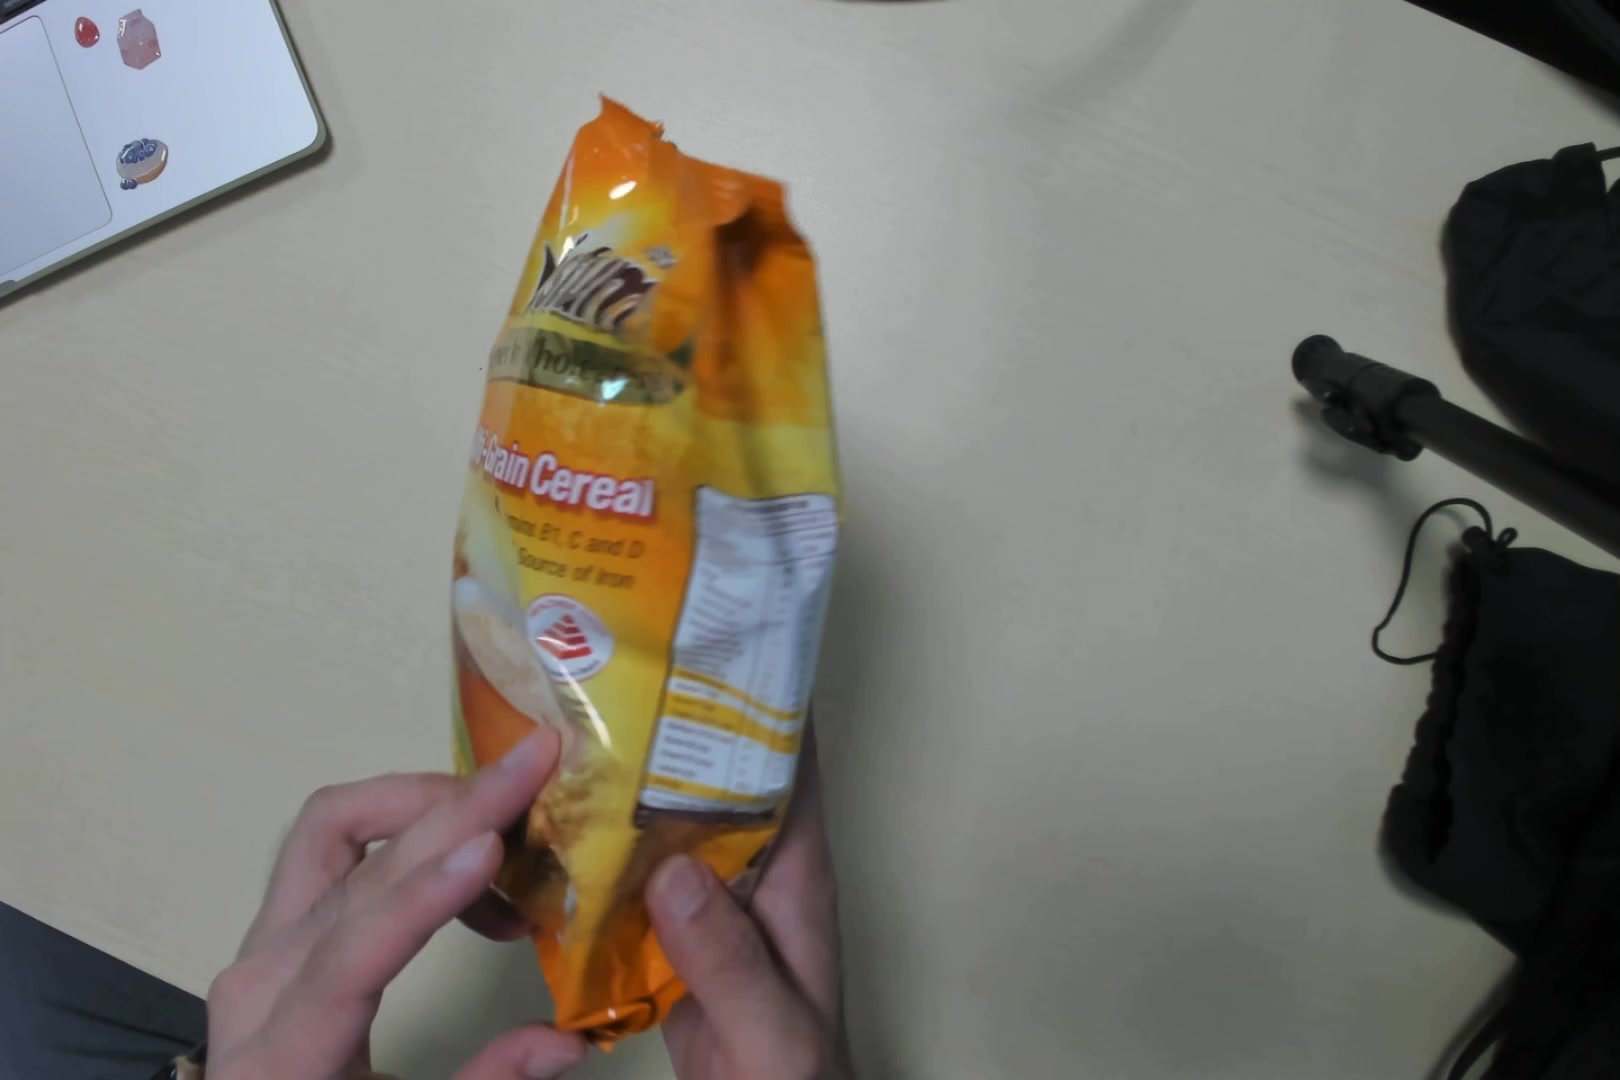RolledOatsInstantOatmeal_200-299g_NonHalal_Healthy: (445, 110, 837, 1031)
